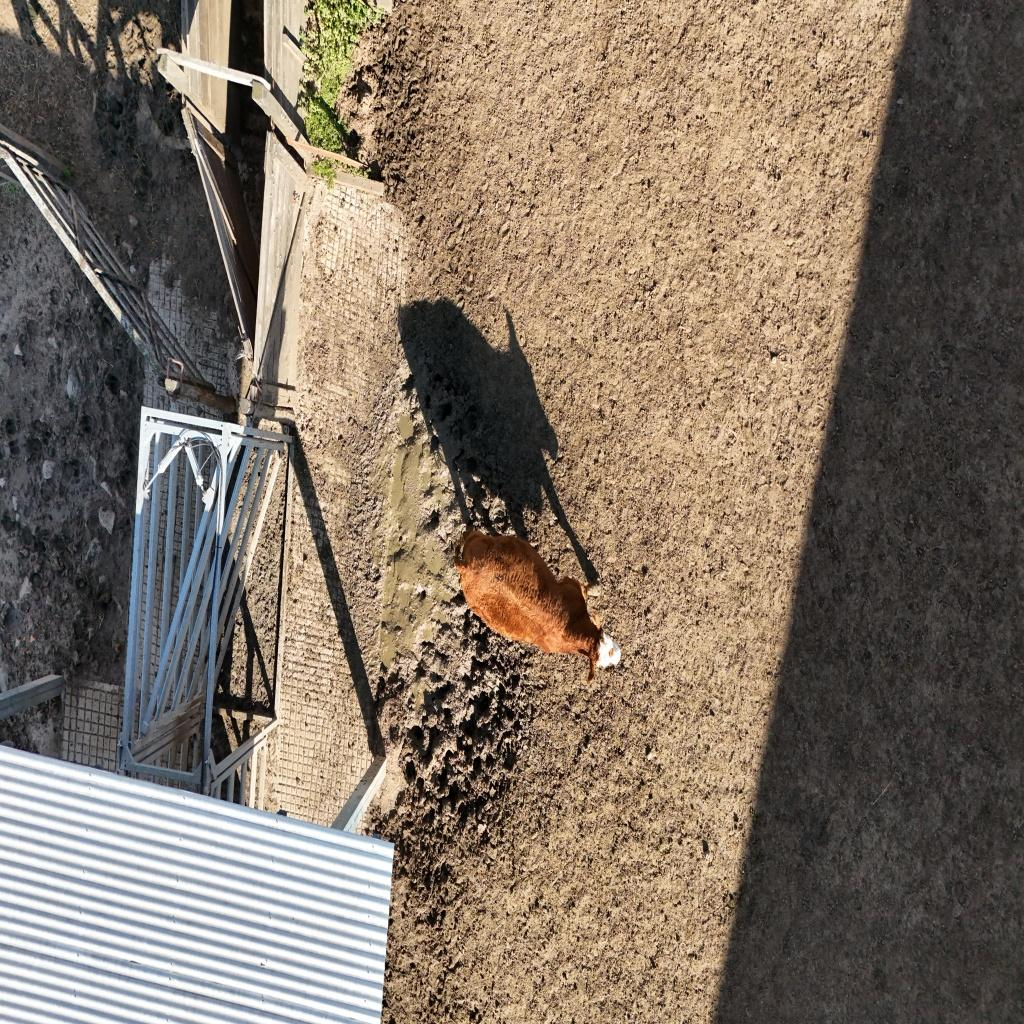cow: (448, 520, 618, 682)
